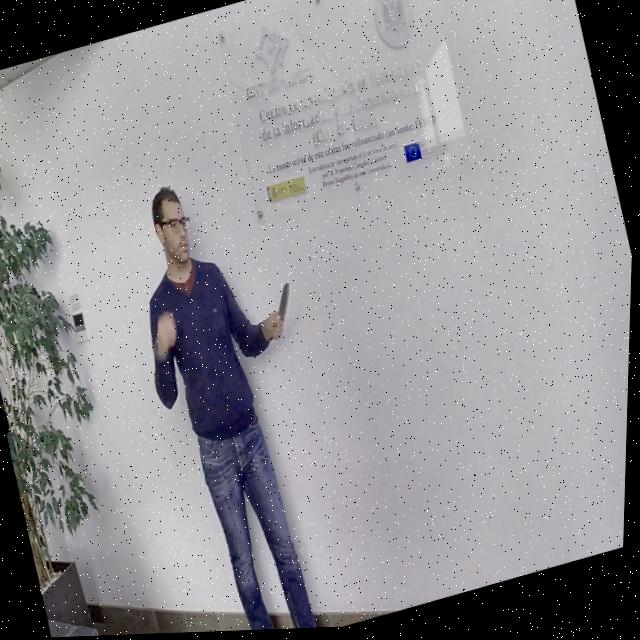knife: (271, 283, 300, 327)
